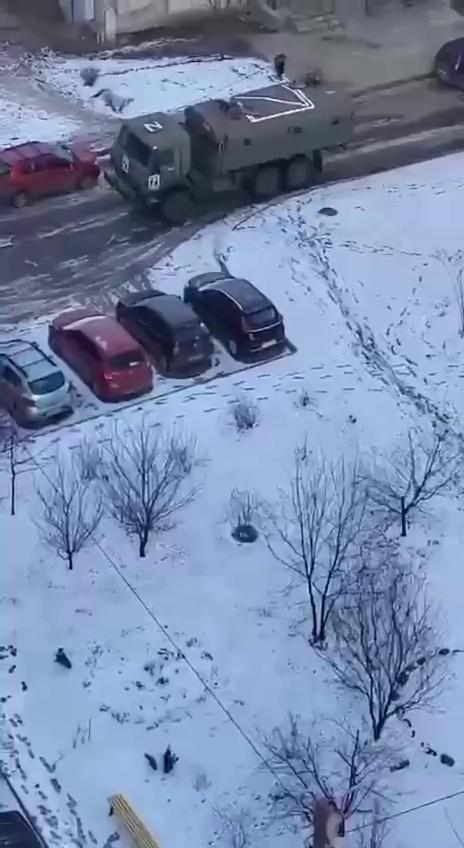car: (44, 304, 154, 402), (112, 288, 217, 377), (184, 270, 286, 359), (0, 338, 75, 427), (0, 142, 101, 208)
truck: (102, 72, 360, 226)
